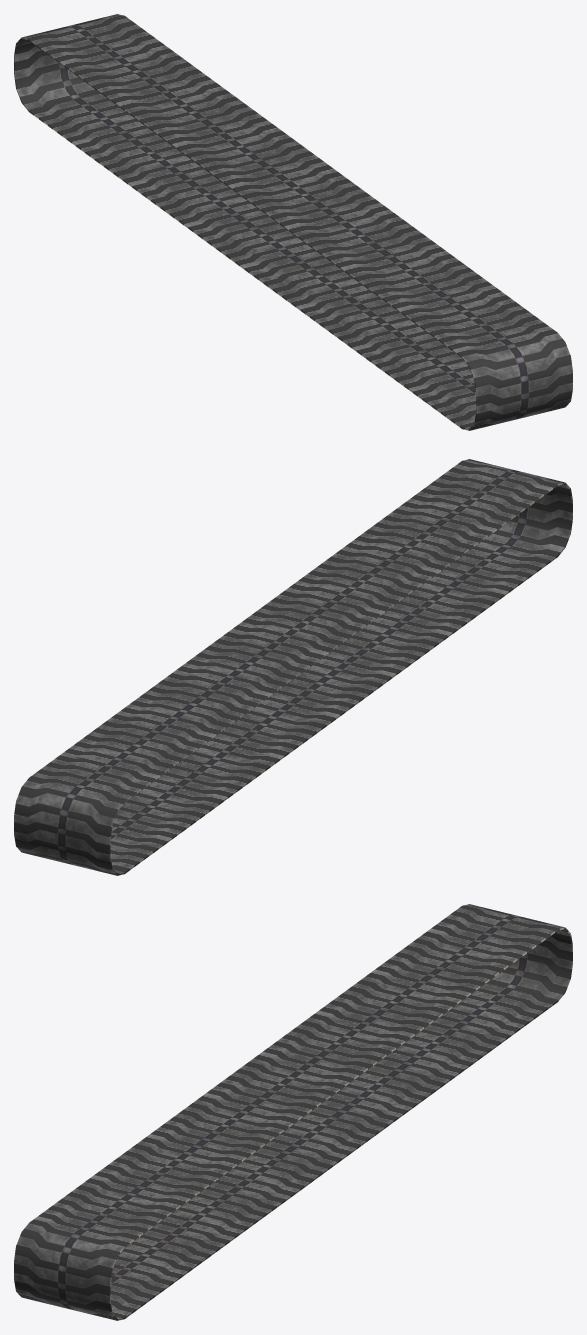
File: Oruga_Low.fbx
The picture shows the model from 3 angles, top to bottom: view 1: azimuth 30°, elevation 25°; view 2: azimuth 150°, elevation 25°; view 3: azimuth 330°, elevation 25°; orthographic projection.
Visible parts, largest first — view 1: Oruga_Low1; view 2: Oruga_Low1; view 3: Oruga_Low1.
Part boxes in pixels (box(x1,y1,x2,y2)): Oruga_Low1: box(14, 14, 572, 430); Oruga_Low1: box(14, 459, 572, 875); Oruga_Low1: box(14, 904, 572, 1320).
Size of the model in its own units: 600 by 436 by 5020.
